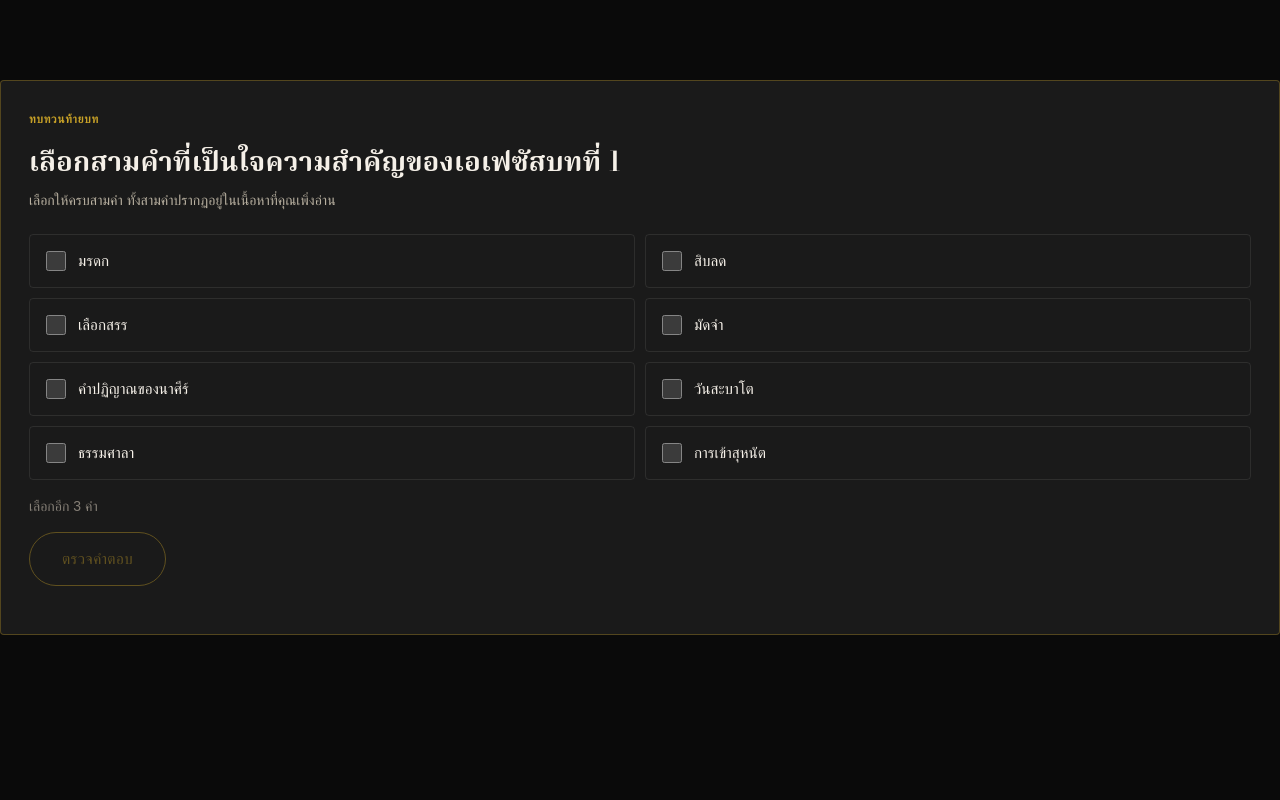
Test case: chapter ending flow › keeps the submit button disabled until exactly three words are chosen
The width and height of the screenshot is (1280, 800).
Expected: the button "ตรวจคำตอบ" is disabled, [29,532,166,586]
Click the checkbox labelled "เลือกสรร" at (56, 325), box [46,315,66,335]
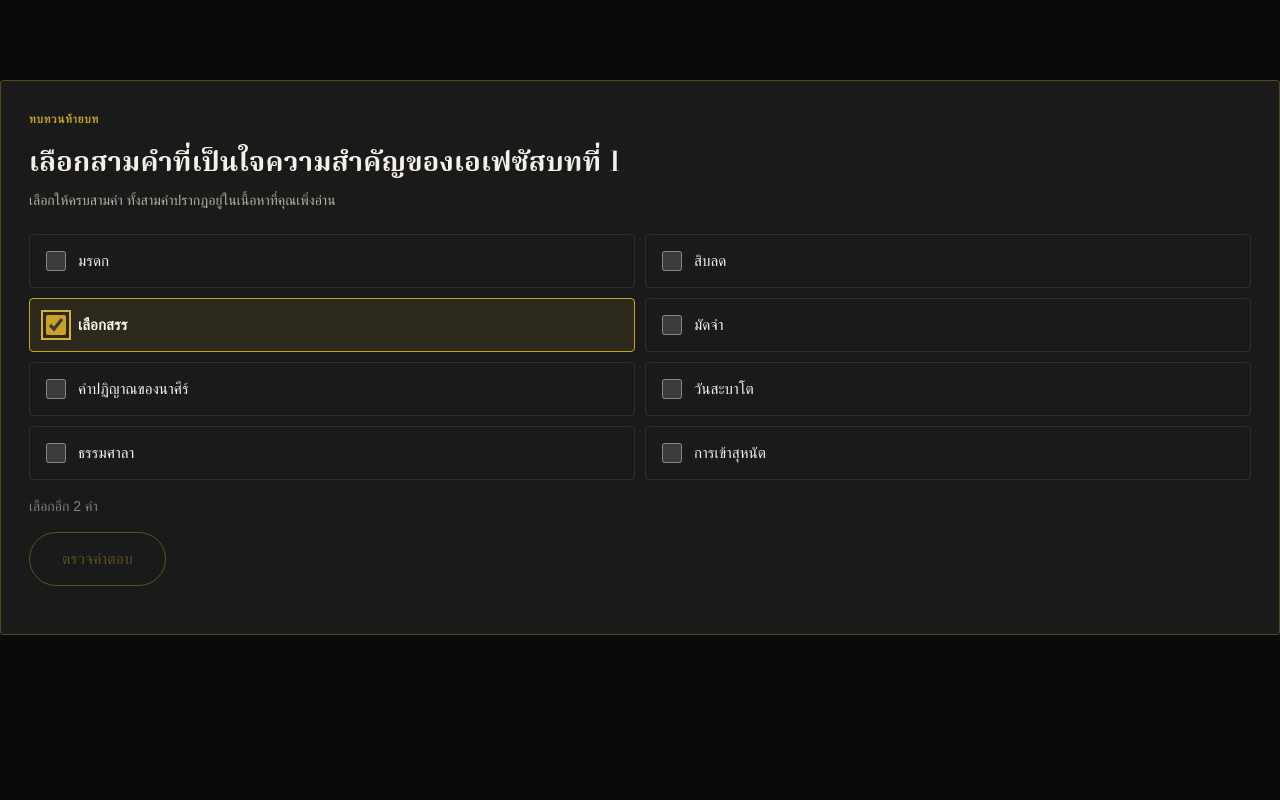
Click the checkbox labelled "มรดก" at (56, 261), box [46,251,66,271]
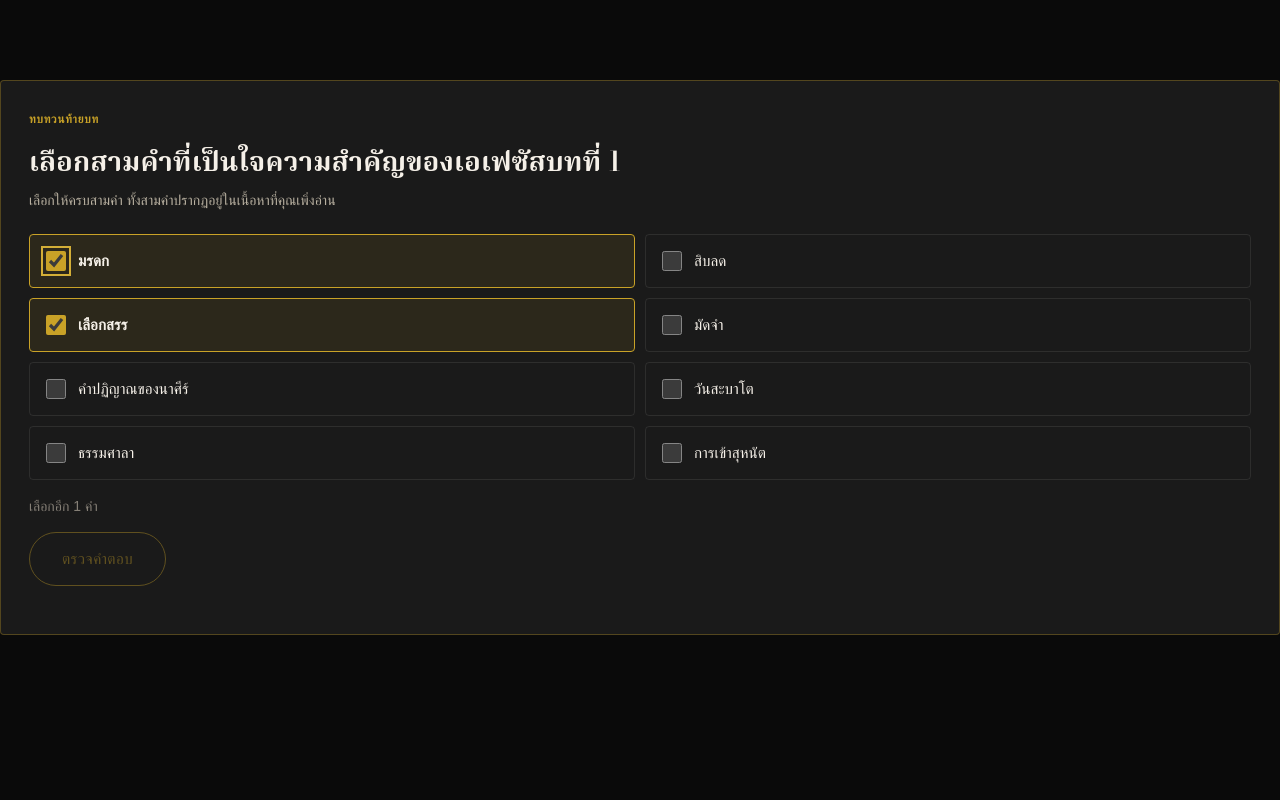
Expected: the button "ตรวจคำตอบ" is disabled, [29,532,166,586]
Click the checkbox labelled "มัดจำ" at (672, 325), box [662,315,682,335]
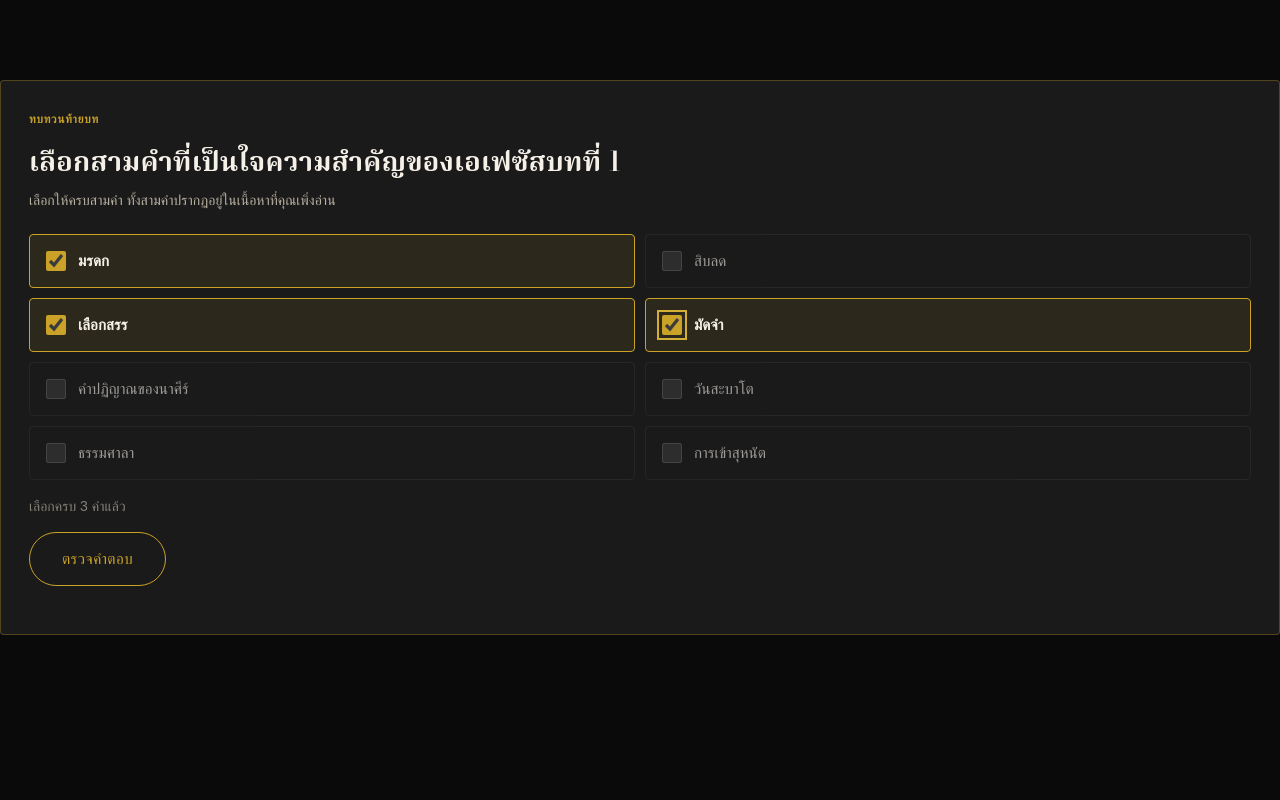
Now the button "ตรวจคำตอบ" is enabled, box [29,532,166,586]
